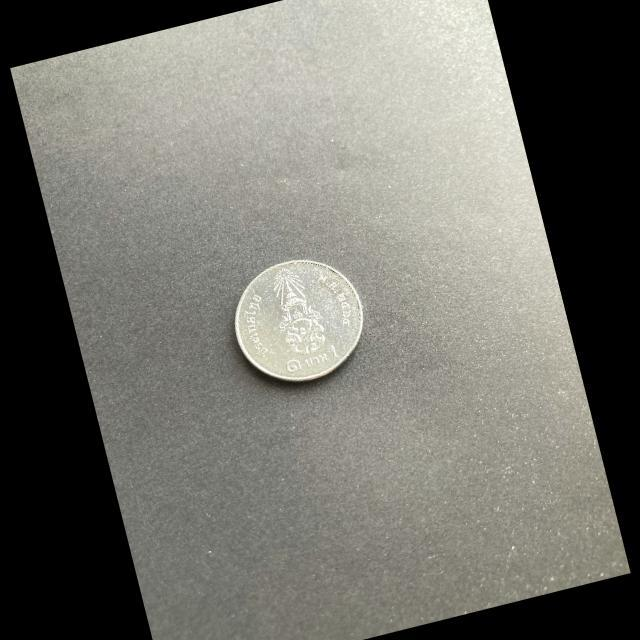1 Bath: (236, 258, 368, 384)
